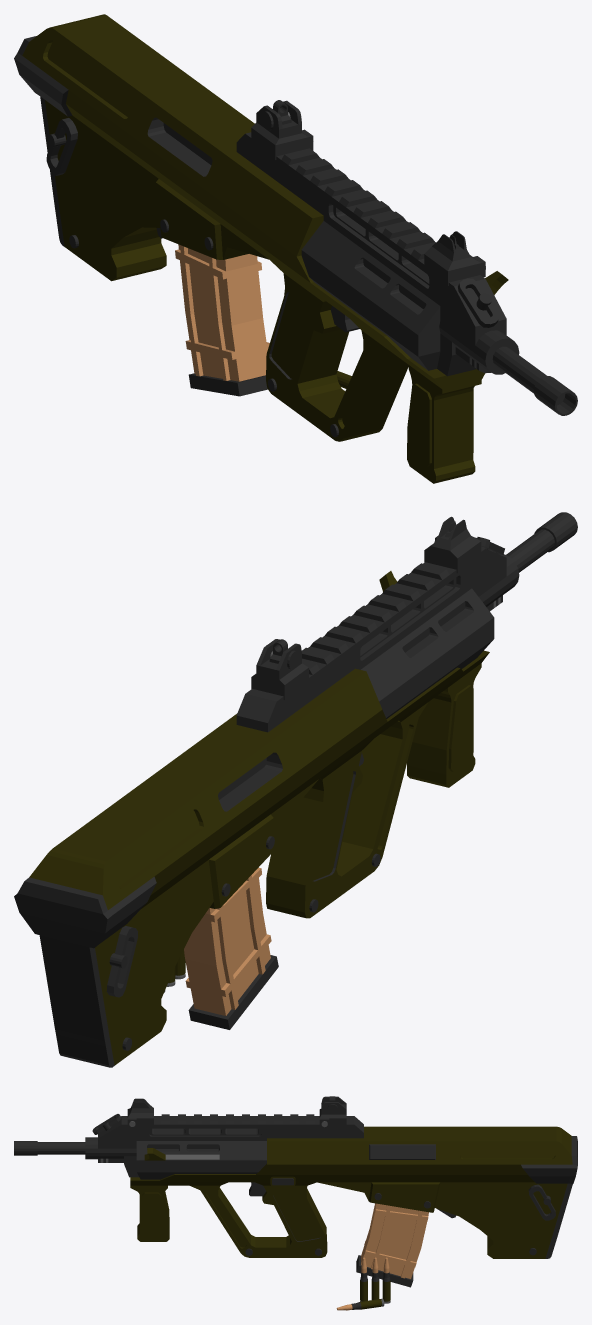
Rendered from AUG.fbx.
3 renders of one model, top to bottom at view 1: azimuth 30°, elevation 25°; view 2: azimuth 150°, elevation 25°; view 3: azimuth 270°, elevation 25°, orthographic. The views are drawn at different scales.
Parts seen in each view (by area): view 1: AUG_Receiver, AUG_Barrel1, AUG_Mag1, AUG_Receiver_Grip, AUG_BackSight, AUG_FrontSight, AUG_Receiver.001; view 2: AUG_Receiver, AUG_Barrel1, AUG_Mag1, AUG_Receiver_Grip, AUG_BackSight, AUG_FrontSight; view 3: AUG_Receiver, AUG_Barrel1, AUG_Mag1, AUG_Receiver_Grip, AUG_Barrel1_Bolt, AUG_BackSight, AUG_FrontSight.
Part boxes in pixels (x1,y1,x2,y2): AUG_Receiver: (14, 14, 484, 441); AUG_Barrel1: (236, 132, 577, 415); AUG_Mag1: (175, 244, 269, 396); AUG_Receiver_Grip: (407, 365, 481, 483); AUG_BackSight: (251, 100, 313, 159); AUG_FrontSight: (424, 231, 485, 285); AUG_Receiver.001: (458, 278, 498, 327); AUG_Receiver: (14, 650, 489, 1067); AUG_Barrel1: (236, 512, 577, 732); AUG_Mag1: (184, 867, 278, 1029); AUG_Receiver_Grip: (407, 663, 481, 787); AUG_BackSight: (251, 639, 308, 699); AUG_FrontSight: (424, 516, 481, 573); AUG_Receiver: (130, 1126, 577, 1258); AUG_Barrel1: (14, 1114, 363, 1179); AUG_Mag1: (356, 1203, 428, 1287); AUG_Receiver_Grip: (130, 1185, 169, 1241); AUG_Barrel1_Bolt: (139, 1148, 262, 1160); AUG_BackSight: (319, 1096, 346, 1127); AUG_FrontSight: (127, 1098, 153, 1127).
Bounding box in the file's own units: 0.1762 × 0.3475 × 0.9577.
